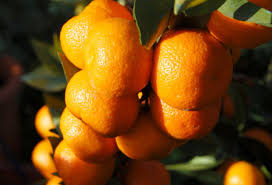orange: (151, 26, 235, 105), (60, 67, 142, 132), (87, 22, 152, 94), (150, 85, 225, 141), (56, 106, 116, 161), (116, 109, 179, 160), (52, 141, 116, 185)
